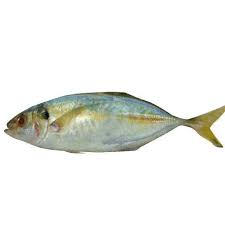Ikan Selar: (4, 93, 224, 152)
